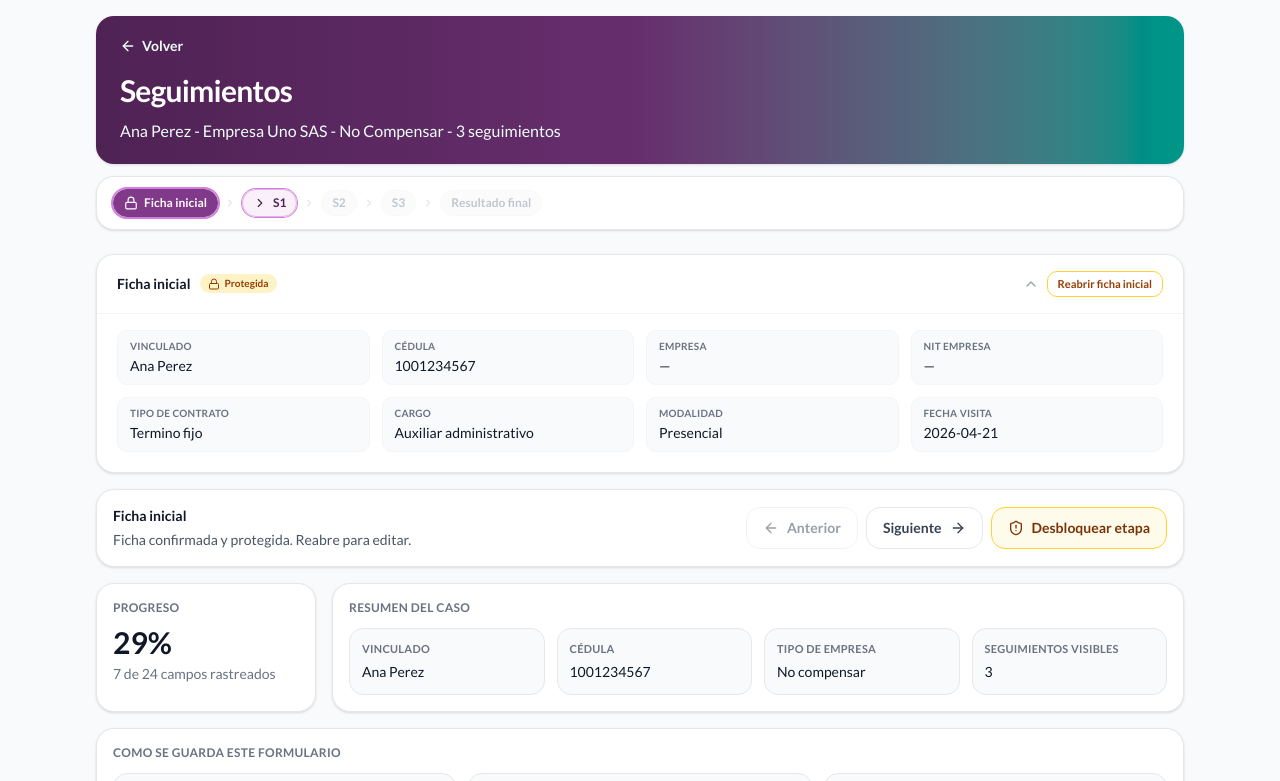
SeguimientosCaseEditor › unlocks a protected confirmable ficha inicial after override is confirmed
The image size is (1280, 781).
Step 1. Click the button with test id "seguimientos-base-stage-reopen-button" → (1105, 284), box [1047,270,1163,297]
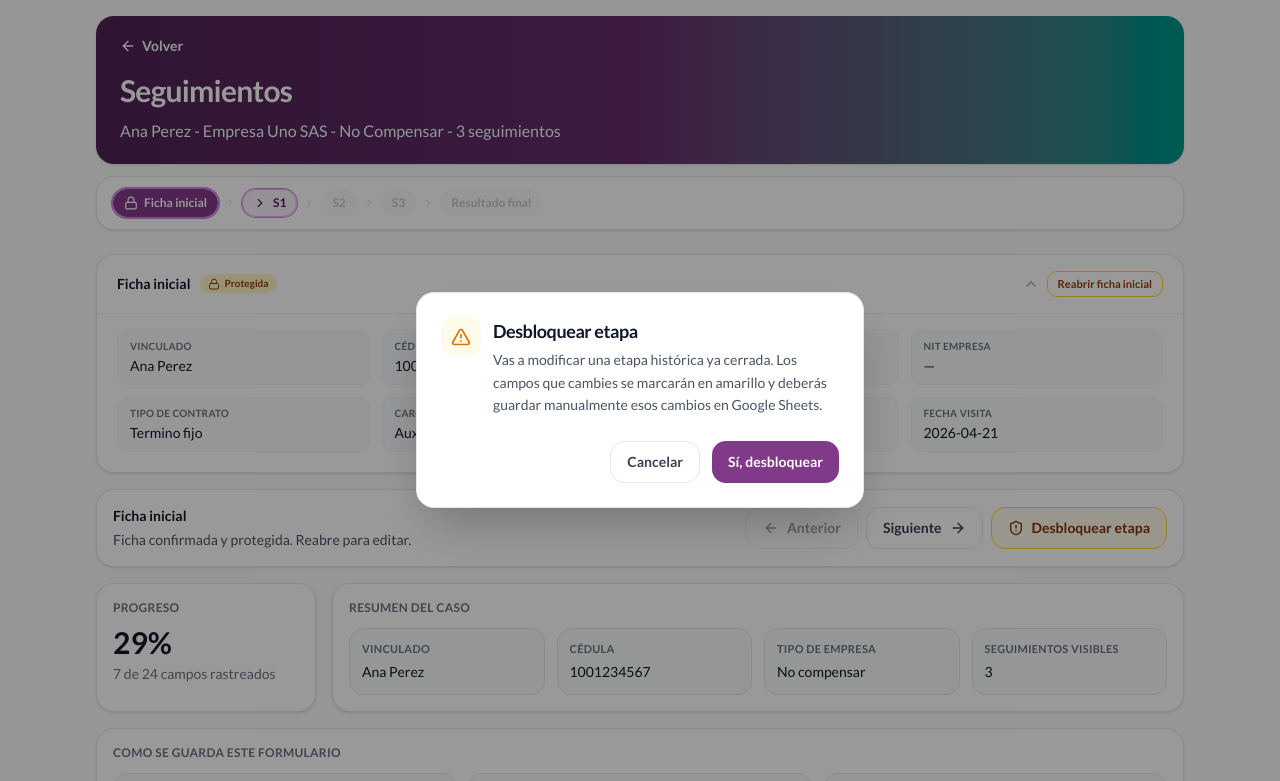
Step 2. Click the button with test id "form-submit-confirm-accept" → (776, 462), box [712,441,839,483]
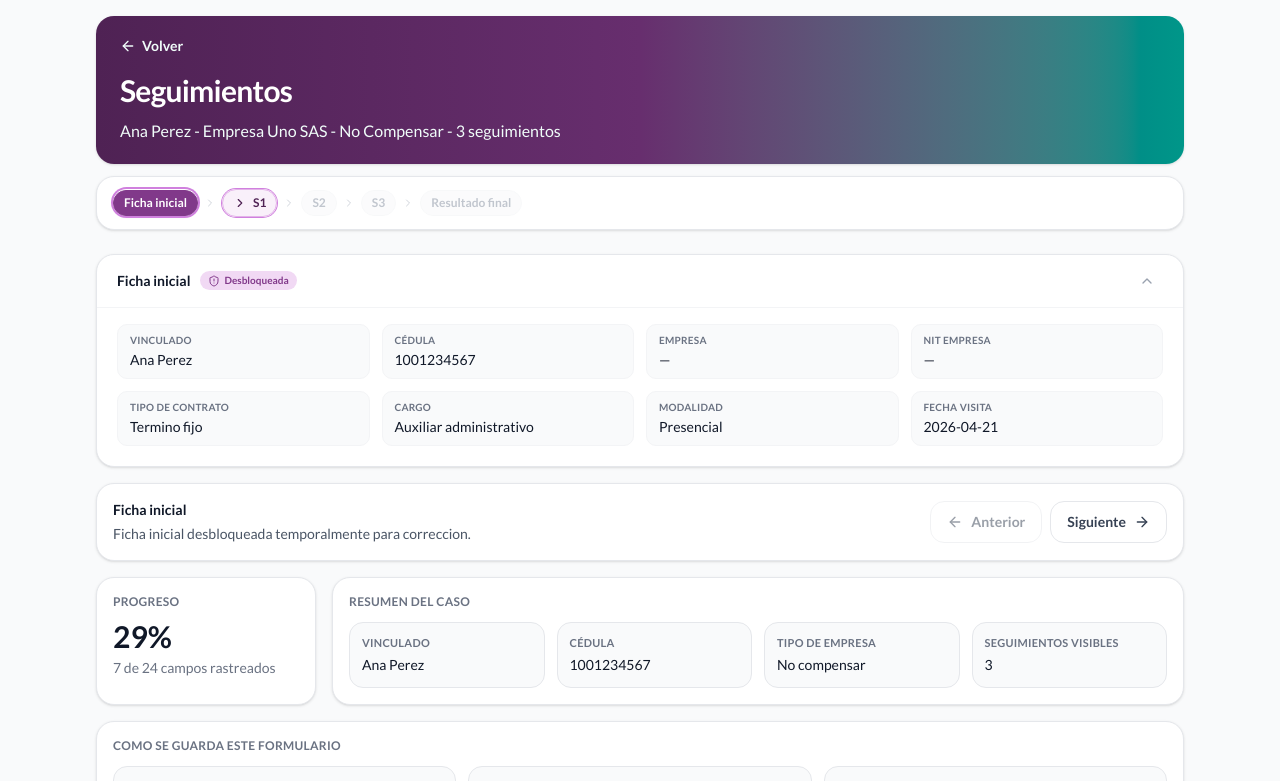
Now the text "Ficha inicial desbloqueada temporalmente para correccion." is shown, box [113,524,471,544]
